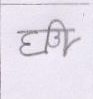i_matra: (51, 19, 71, 56)
